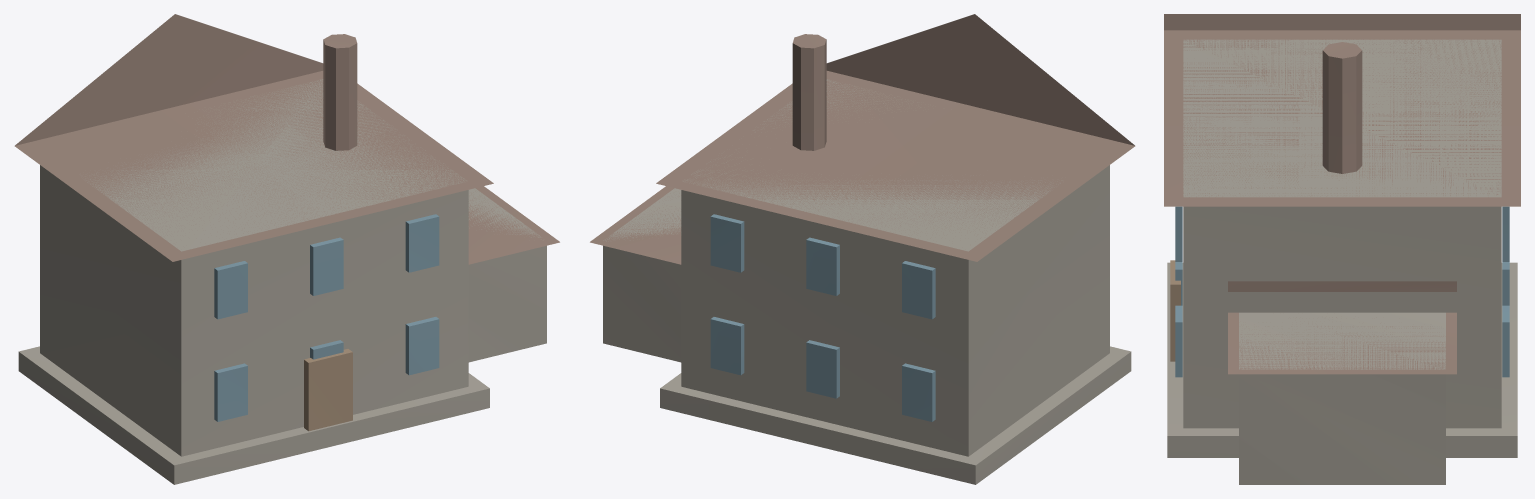
Rendered from cottage-05.glb.
3 renders of one model, left to right at view 1: azimuth 30°, elevation 25°; view 2: azimuth 150°, elevation 25°; view 3: azimuth 270°, elevation 25°, orthographic. The views are drawn at different scales.
Parts seen in each view (by area): view 1: world; view 2: world; view 3: world.
Boxes of the visible parts, bbox=[...] form: world: bbox=[14, 14, 559, 484]; world: bbox=[590, 14, 1135, 484]; world: bbox=[1164, 14, 1520, 484].
Size of the model in its own units: 1.78 by 1.34 by 1.18.
